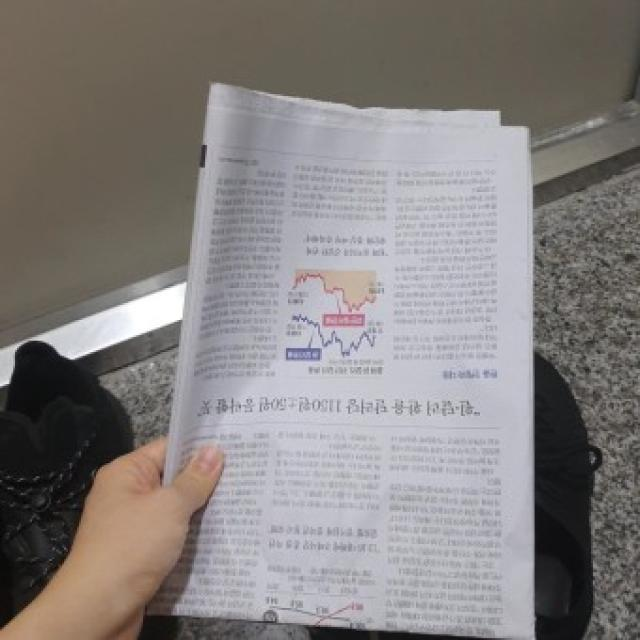Newspaper: (154, 83, 535, 640)
